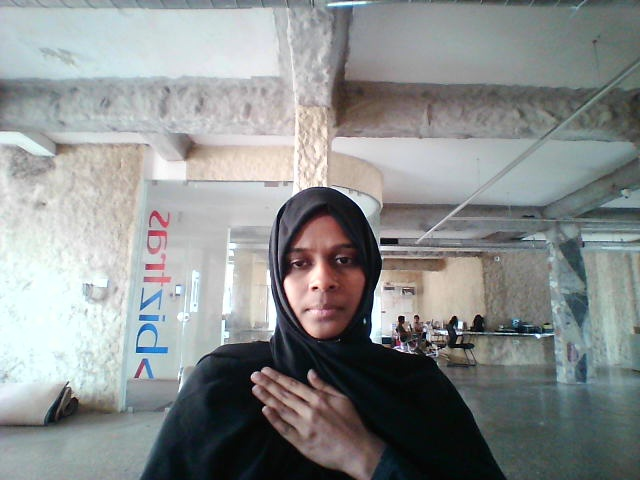PLEASE: (224, 356, 400, 479)
